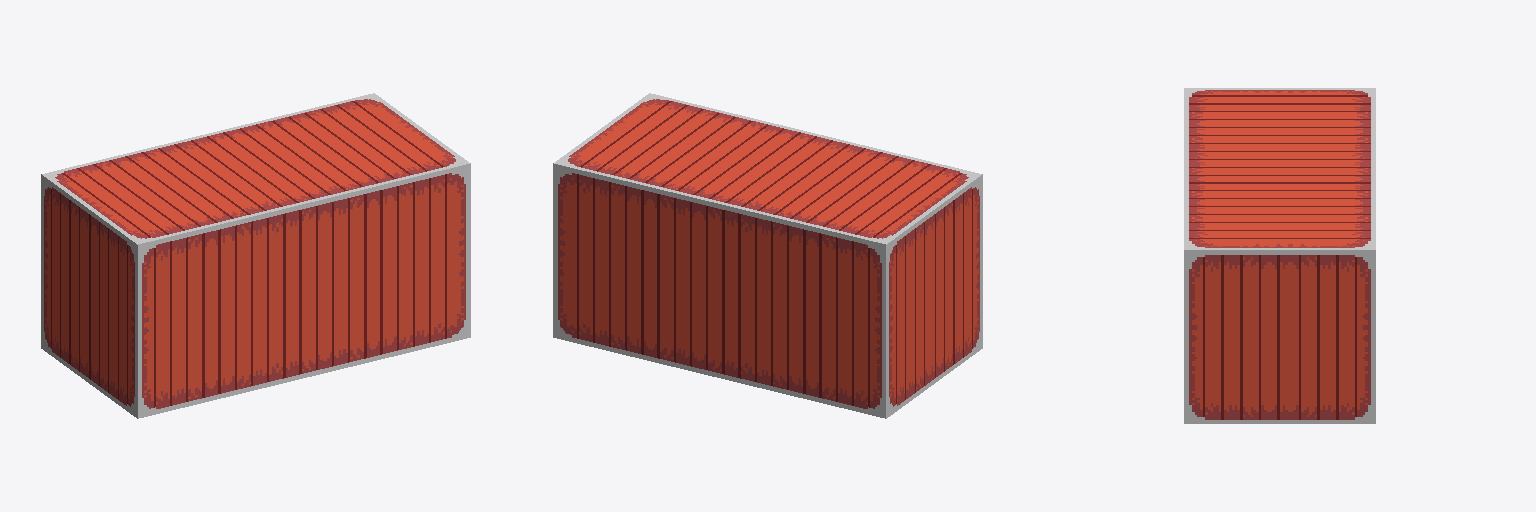
3 views of the same model, side by side, from view 1: azimuth 30°, elevation 25°; view 2: azimuth 150°, elevation 25°; view 3: azimuth 270°, elevation 25° (orthographic).
Visible parts, largest first — view 1: GameObject_house_textured_red_rectangular.002; view 2: GameObject_house_textured_red_rectangular.002; view 3: GameObject_house_textured_red_rectangular.002.
Part boxes in pixels (x1,y1,x2,y2): GameObject_house_textured_red_rectangular.002: (41, 93, 470, 418); GameObject_house_textured_red_rectangular.002: (553, 93, 982, 418); GameObject_house_textured_red_rectangular.002: (1184, 88, 1375, 423).
Size of the model in its own units: 14.4 by 7.2 by 7.2.
Materials: 1 (1 with a texture image).